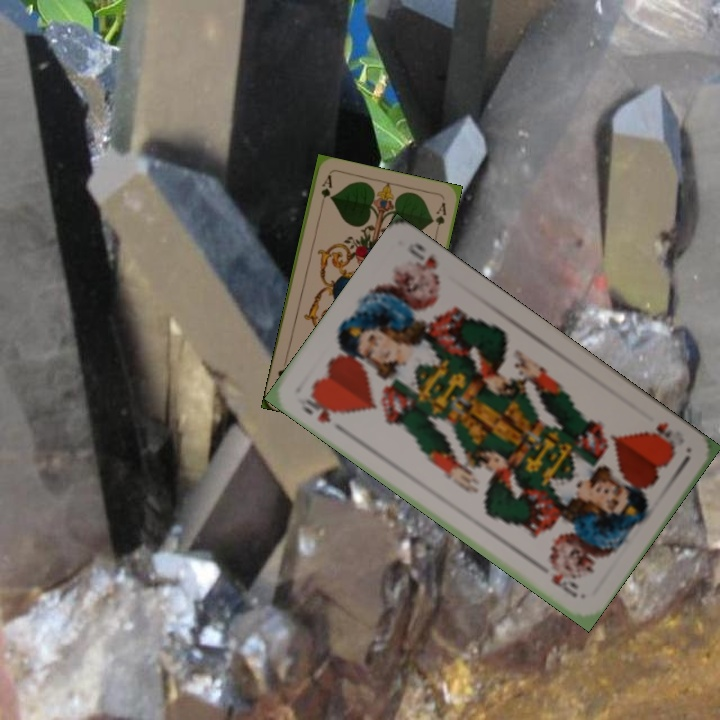GA: (316, 171, 335, 211)
HO: (296, 390, 338, 426), (641, 417, 679, 455)
